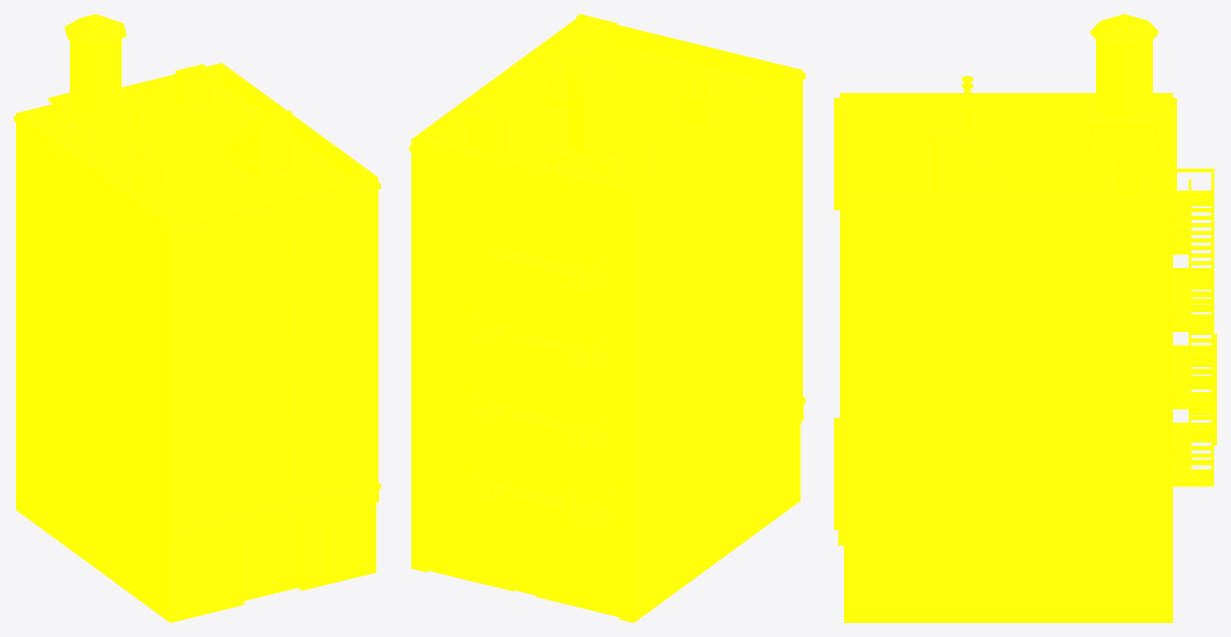
File: building-block-4floor-short.glb
3 views of the same model, side by side, from view 1: azimuth 30°, elevation 25°; view 2: azimuth 150°, elevation 25°; view 3: azimuth 270°, elevation 25° (orthographic). The views are drawn at different scales.
Parts seen in each view (by area): view 1: building-block-4floor-short; view 2: building-block-4floor-short; view 3: building-block-4floor-short.
Boxes of the visible parts, x1,y1,x2,y2 form: building-block-4floor-short: (14, 14, 380, 622); building-block-4floor-short: (409, 14, 805, 622); building-block-4floor-short: (834, 14, 1216, 622).
Bounding box in the file's own units: 8.9 × 20.61 × 13.45.
Materials: 1 (1 with a texture image).
